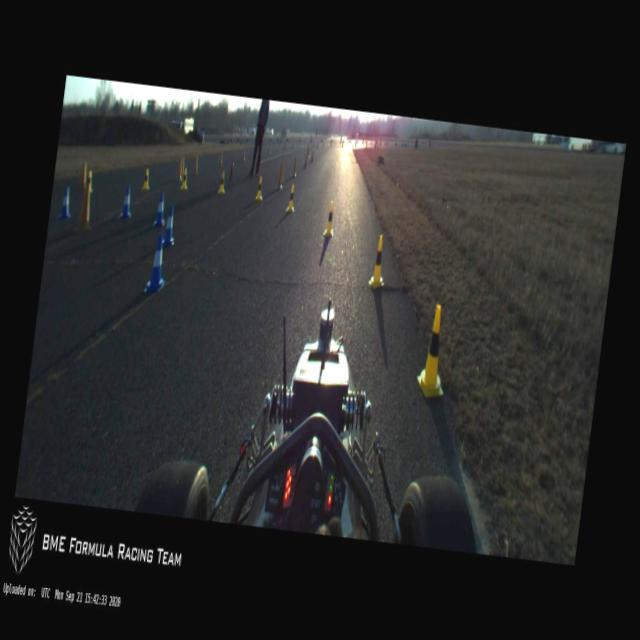blue_cone: (144, 232, 170, 292), (161, 205, 178, 246), (152, 190, 168, 228), (118, 184, 134, 219), (58, 184, 73, 220)
yellow_cone: (414, 301, 453, 401), (368, 233, 390, 290), (322, 198, 338, 240), (285, 182, 296, 215), (254, 174, 264, 200), (142, 167, 152, 192), (86, 170, 94, 194), (218, 172, 226, 194), (180, 168, 188, 190)
